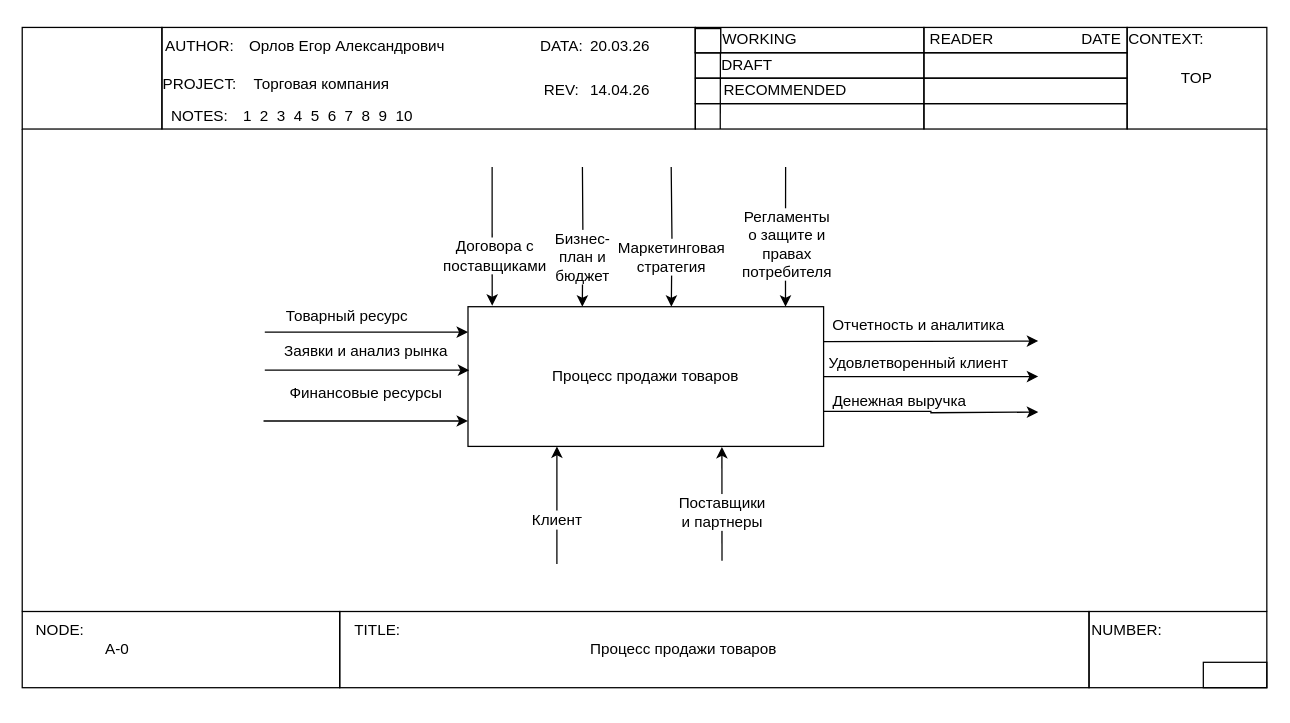
Some shapes in this 1290 by 723 pixel diagram are drawn without their labels. The centre of each missing label's shape, as x and y in pixels:
PUBLICATION: [809,115]
USED AT:: [91,77]
